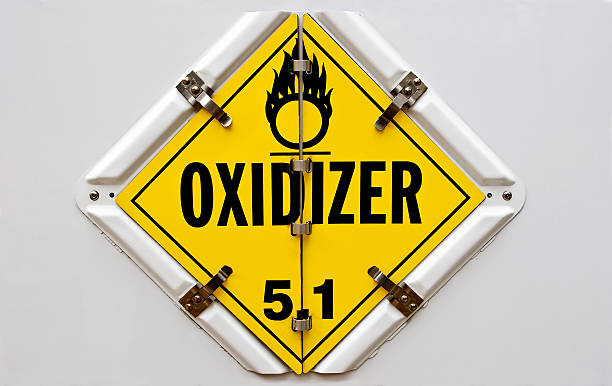Oxidizer: (116, 15, 487, 375)
